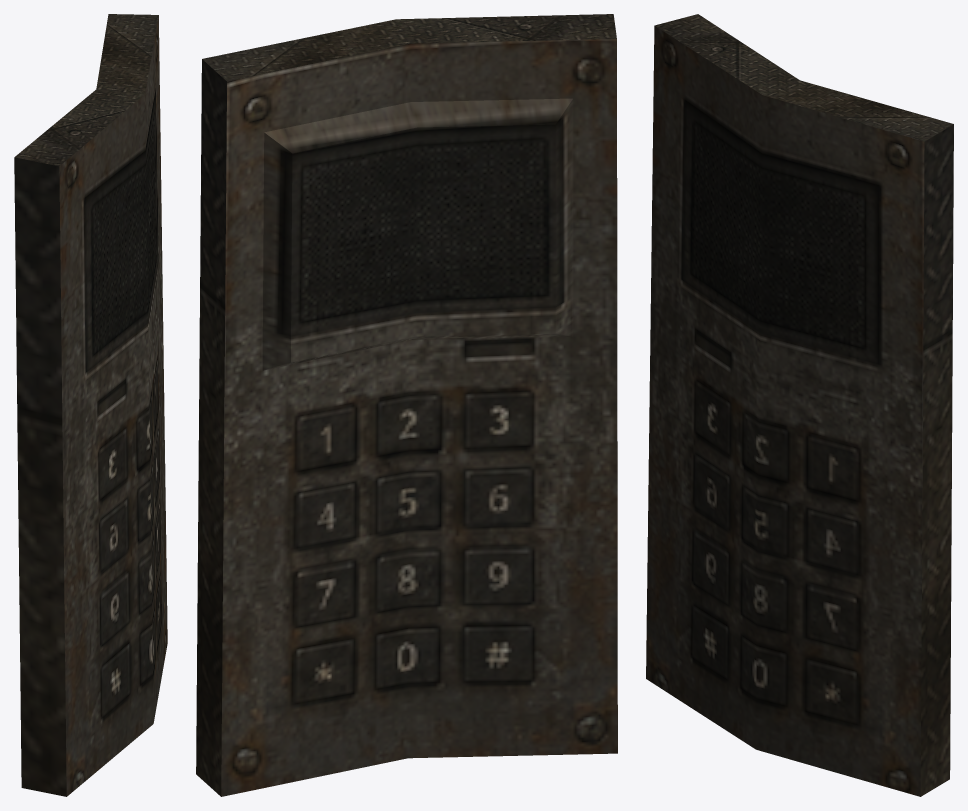
File: Panel.fbx
The picture shows the model from 3 angles, left to right: view 1: azimuth 30°, elevation 25°; view 2: azimuth 150°, elevation 25°; view 3: azimuth 270°, elevation 25°; orthographic projection. The views are drawn at different scales.
Visible parts, largest first — view 1: Panel; view 2: Panel; view 3: Panel.
Boxes of the visible parts, x1=… form: Panel: x1=14, y1=14, x2=167, y2=796; Panel: x1=196, y1=14, x2=617, y2=796; Panel: x1=646, y1=14, x2=953, y2=796.
Bounding box in the file's own units: 38.67 × 89.17 × 38.16.
1 material, 1 textured.
